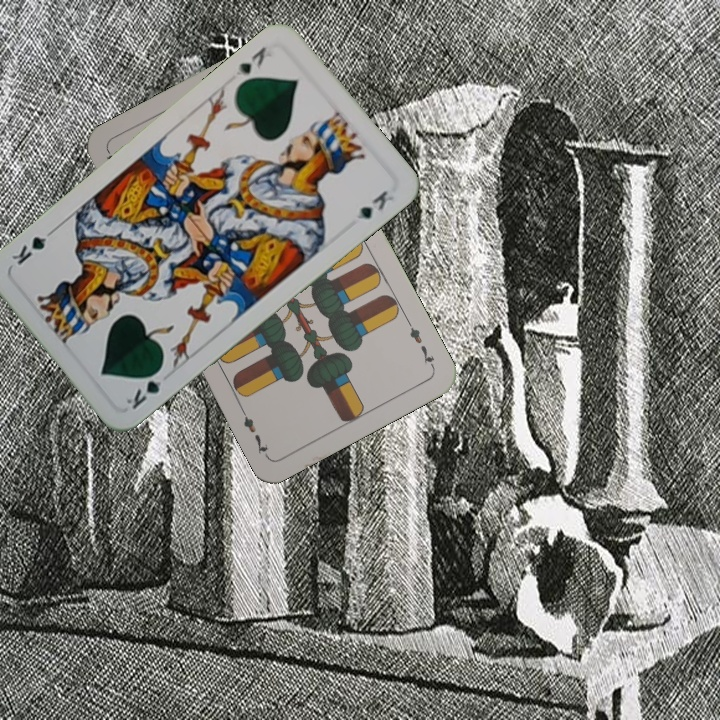E7: (403, 316, 437, 371)
GK: (122, 363, 167, 413), (231, 42, 275, 80)
